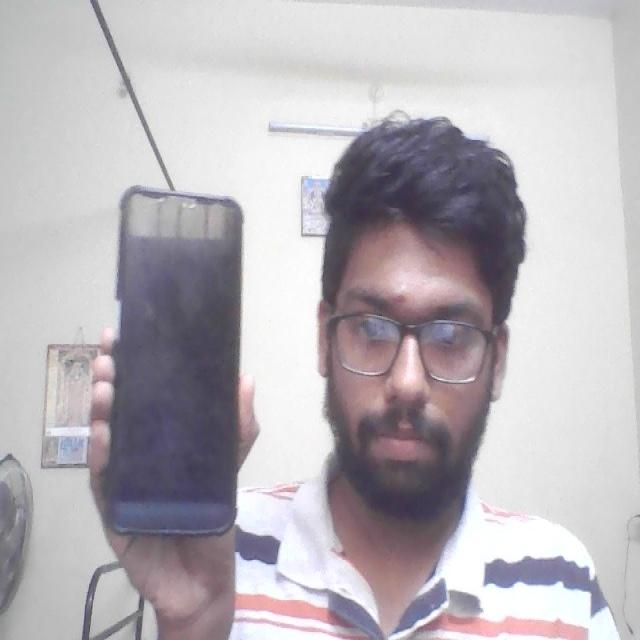Mobile: (107, 178, 244, 541)
